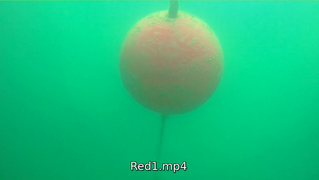buoy: (118, 11, 223, 115)
